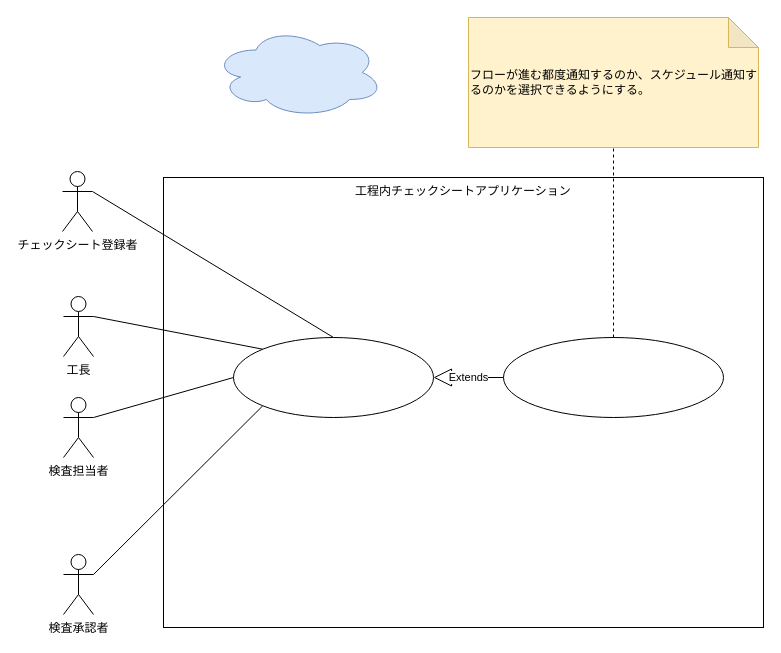
Some shapes in this 781 by 653 pixel diagram are drawn without their labels. Here are the shapes that lost their labels. From the top down, the box of each, then its label:
(212, 26, 384, 118): 工程間（担当者レベル） の通知は必要？
(232, 336, 434, 418): 通知条件を設定する
(502, 336, 724, 418): 工程承認者、検査担当者、検査承認者ごとの通知条件をセットする。
